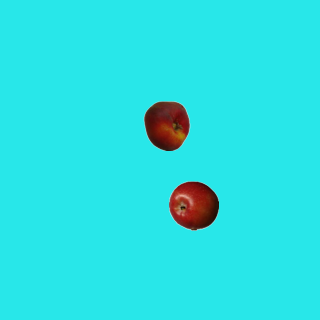Apple Braeburn: (168, 180, 218, 230)
Nectarine Flat: (141, 100, 191, 150)
